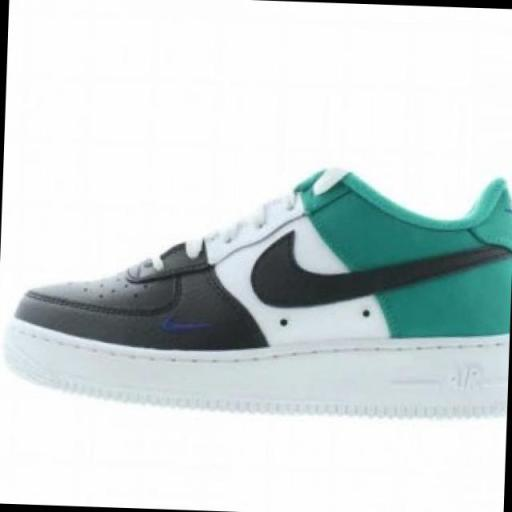Nike: (251, 228, 512, 318)
